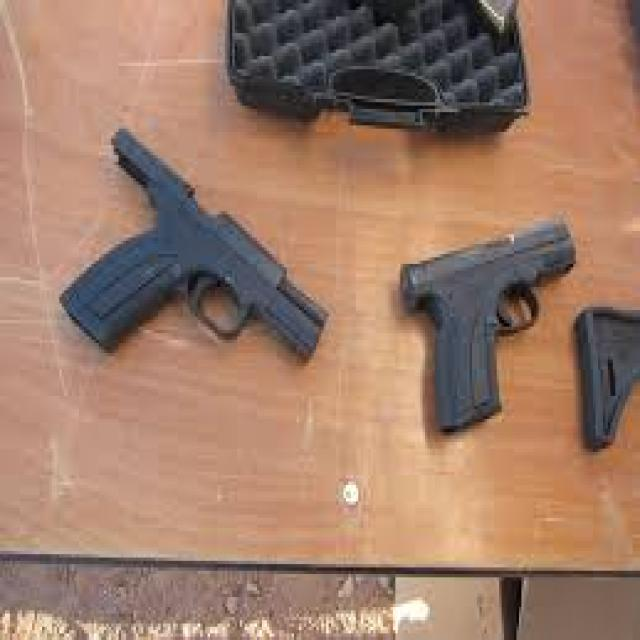Gun: (52, 118, 340, 413), (376, 218, 578, 472)
